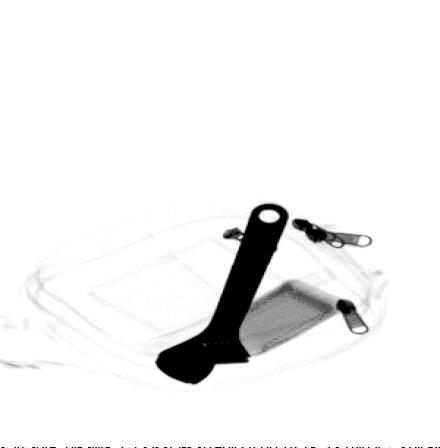Wrench: (153, 201, 293, 387)
